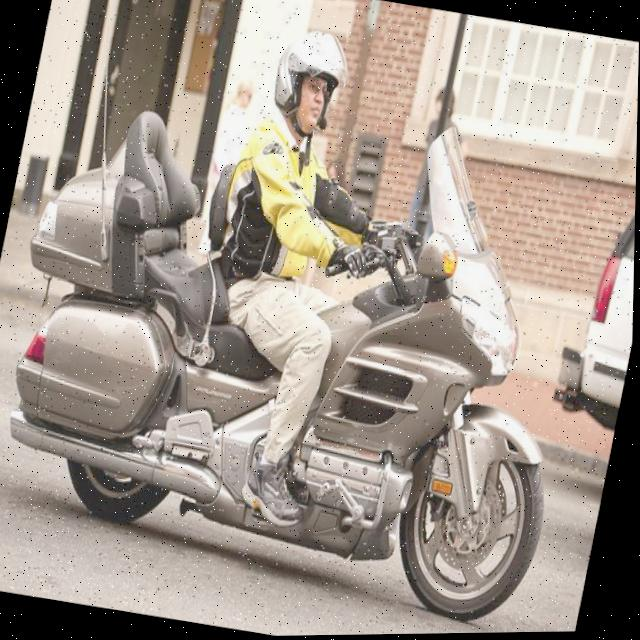motorcycle: (0, 53, 622, 640)
